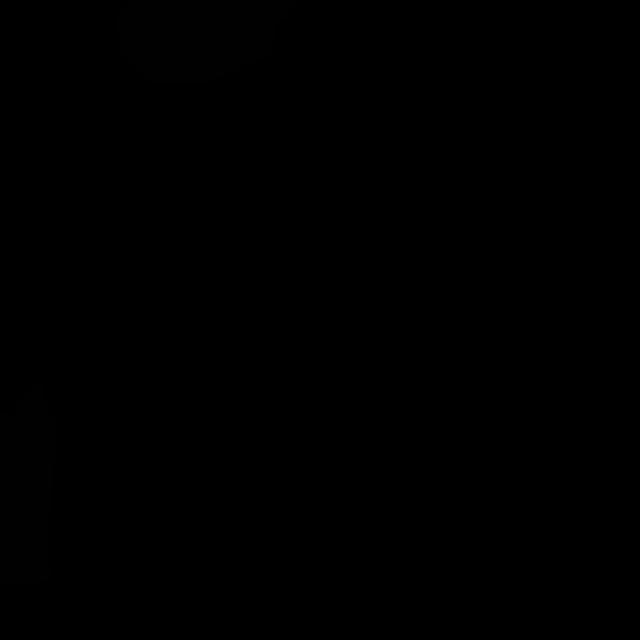rigid_plastic: (115, 1, 298, 84), (0, 384, 58, 586)
